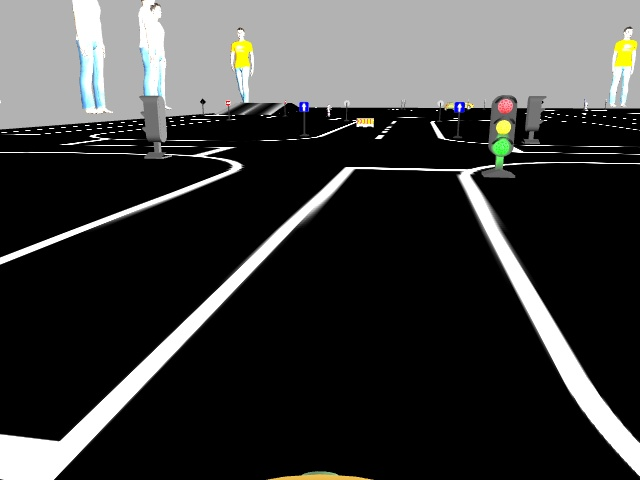ClosedRoadStand: (356, 118, 372, 126)
OneWay: (454, 101, 463, 112), (299, 101, 307, 110)
TrafficLight: (488, 95, 516, 155)
